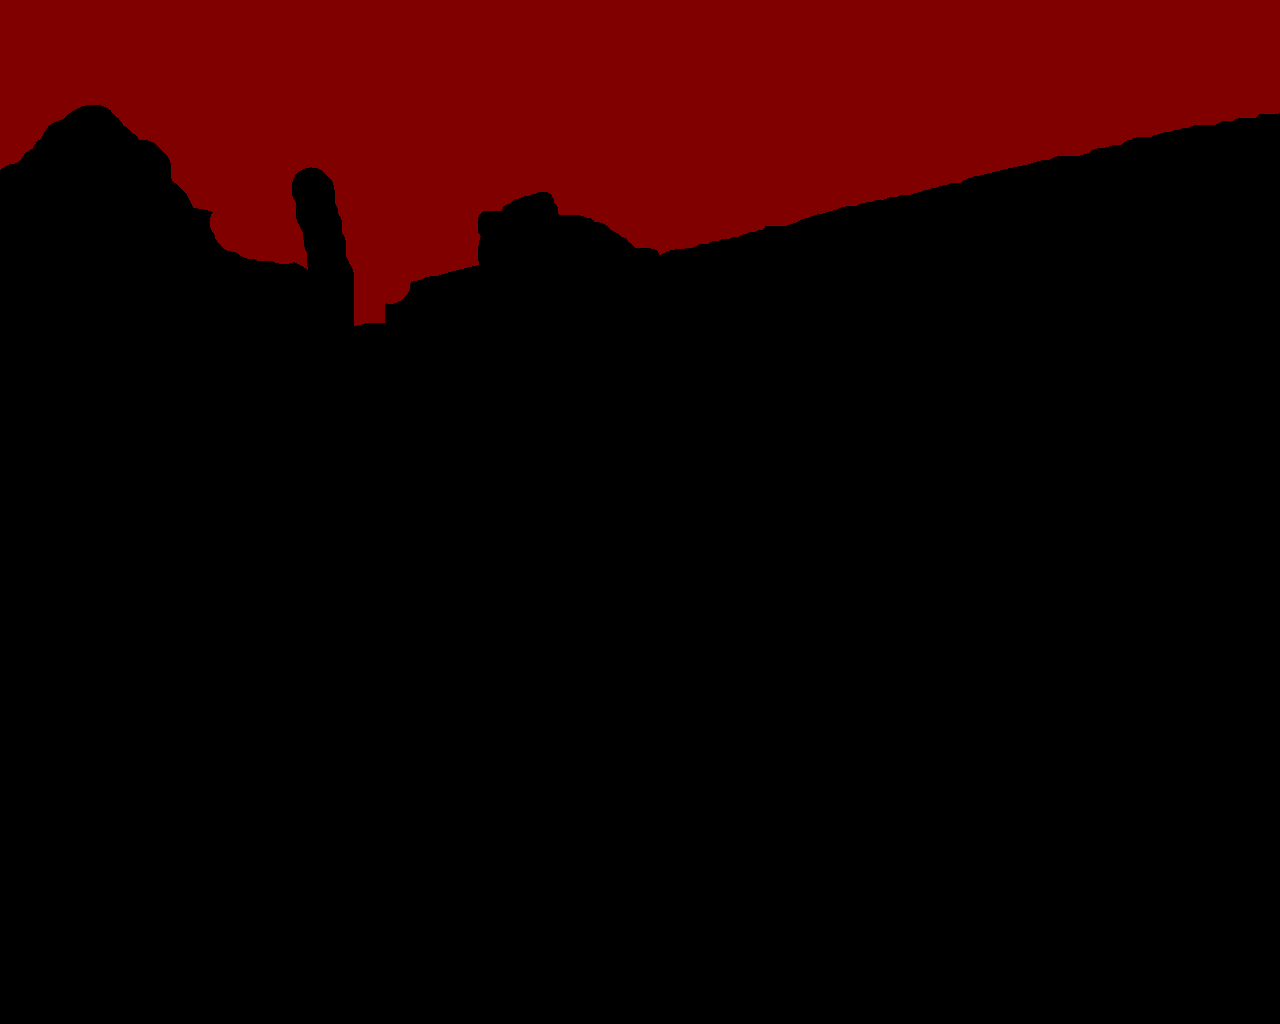Sky: (1, 1, 1279, 326)
